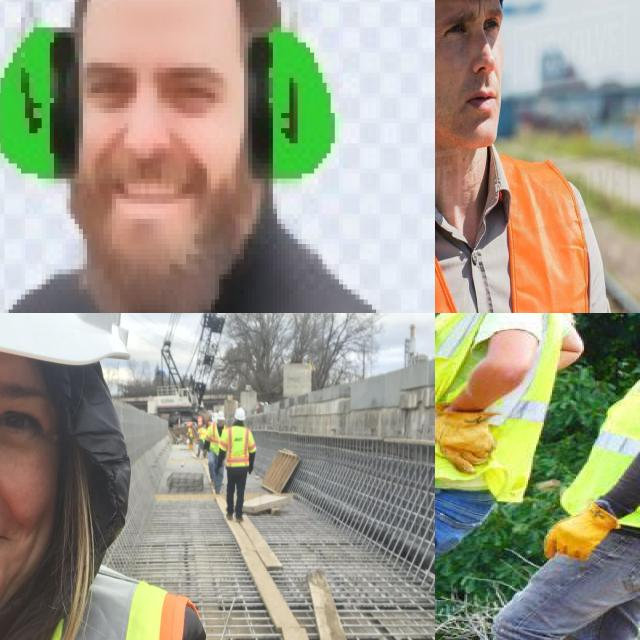Ear-protection: (0, 0, 435, 313), (0, 0, 346, 190)
No_Glasses: (435, 0, 505, 57)
face_nomask: (0, 351, 90, 616), (435, 0, 520, 148)
hand_glove: (435, 397, 513, 480), (547, 501, 626, 570)
head_helmet: (233, 407, 249, 423), (217, 410, 224, 422)
person: (0, 313, 248, 640), (435, 0, 640, 313), (435, 313, 565, 640), (573, 313, 640, 640), (226, 406, 259, 520), (207, 404, 226, 491)
vest: (435, 144, 614, 313), (435, 313, 548, 485), (574, 344, 640, 544), (225, 427, 260, 470), (206, 424, 228, 453)
